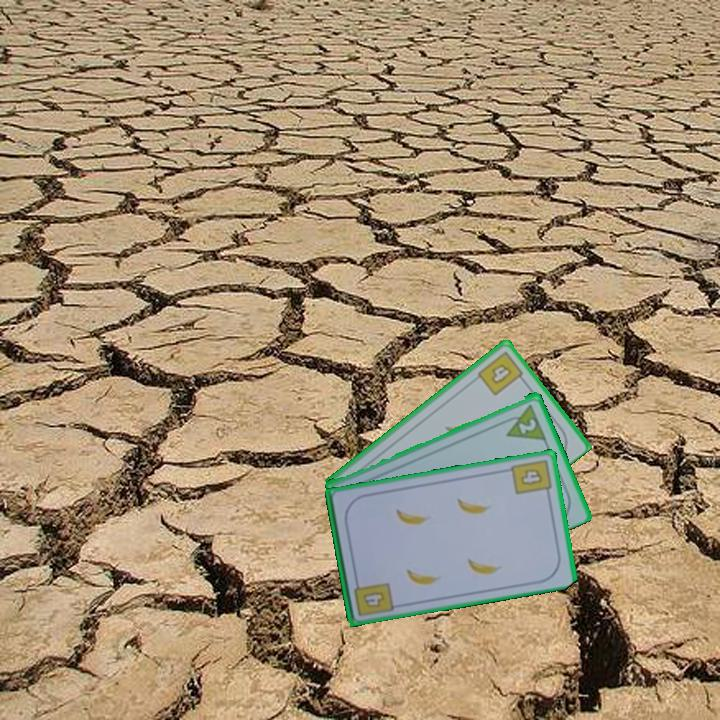2p: (498, 400, 549, 443)
4b: (474, 347, 528, 399), (508, 455, 554, 499), (350, 575, 396, 619)
